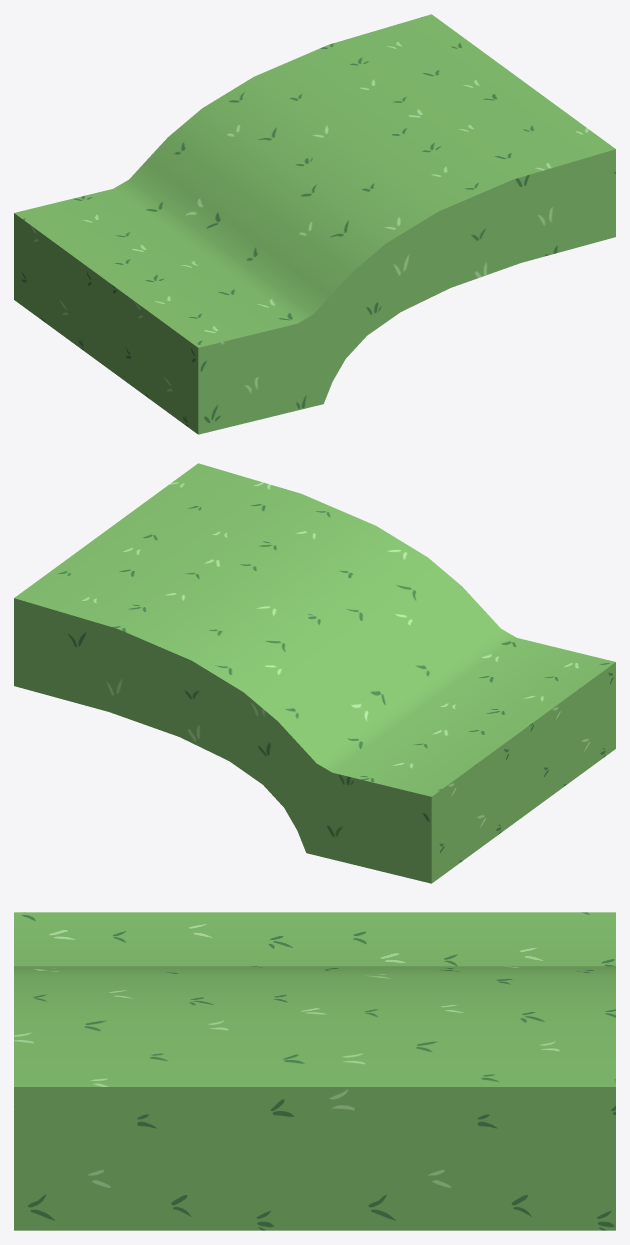
File: GardenPlatform20.fbx
3 views of the same model, one above another, from view 1: azimuth 30°, elevation 25°; view 2: azimuth 150°, elevation 25°; view 3: azimuth 270°, elevation 25° (orthographic). The views are drawn at different scales.
Parts seen in each view (by area): view 1: GardenPlatform20; view 2: GardenPlatform20; view 3: GardenPlatform20.
Boxes of the visible parts, <box> form: GardenPlatform20: <box>14,14,615,434</box>; GardenPlatform20: <box>14,463,615,883</box>; GardenPlatform20: <box>14,912,615,1230</box>.
Bounding box in the file's own units: 887 × 373 × 678.
